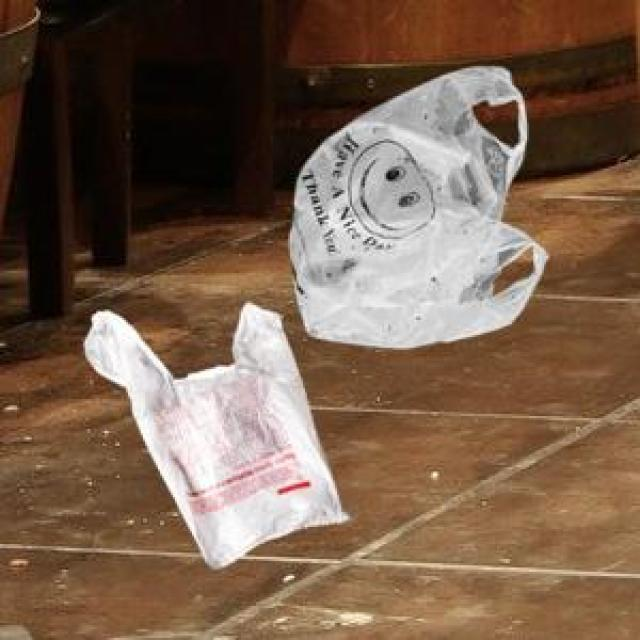waste: (290, 68, 546, 347), (85, 305, 348, 567)
